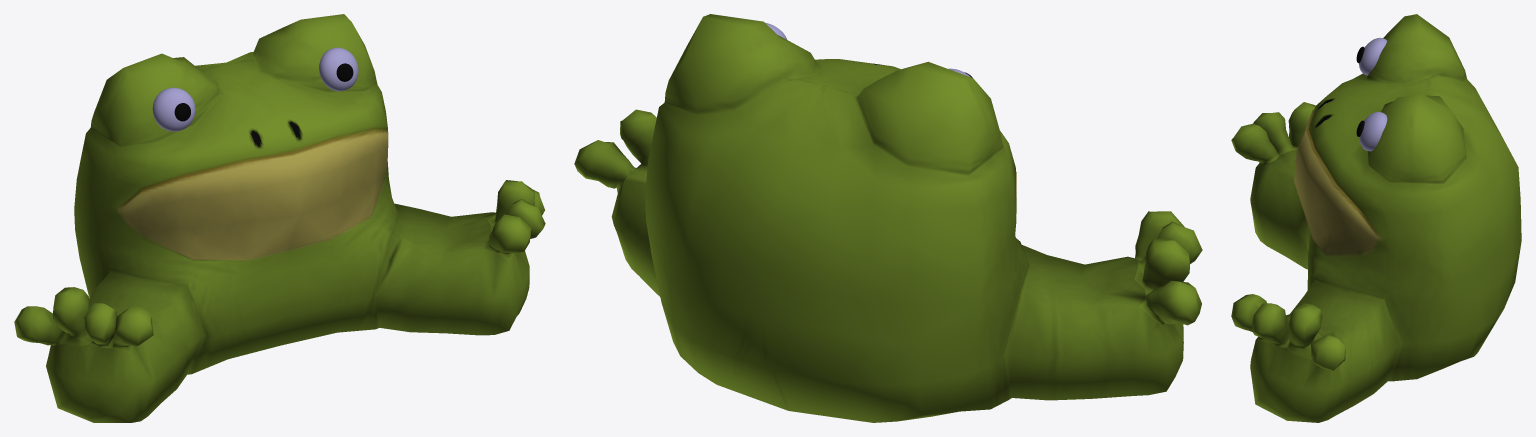
File: frog.gltf
3 renders of one model, left to right at view 1: azimuth 30°, elevation 25°; view 2: azimuth 150°, elevation 25°; view 3: azimuth 270°, elevation 25°, orthographic. The views are drawn at different scales.
Visible parts, largest first — view 1: frog_GetOut_Frog; view 2: frog_GetOut_Frog; view 3: frog_GetOut_Frog.
Boxes of the visible parts, x1,y1,x2,y2 form: frog_GetOut_Frog: (14, 14, 545, 422); frog_GetOut_Frog: (574, 14, 1202, 422); frog_GetOut_Frog: (1231, 14, 1521, 422).
Size of the model in its own units: 21.87 by 11.54 by 11.29.
Materials: 3 (3 with a texture image).
